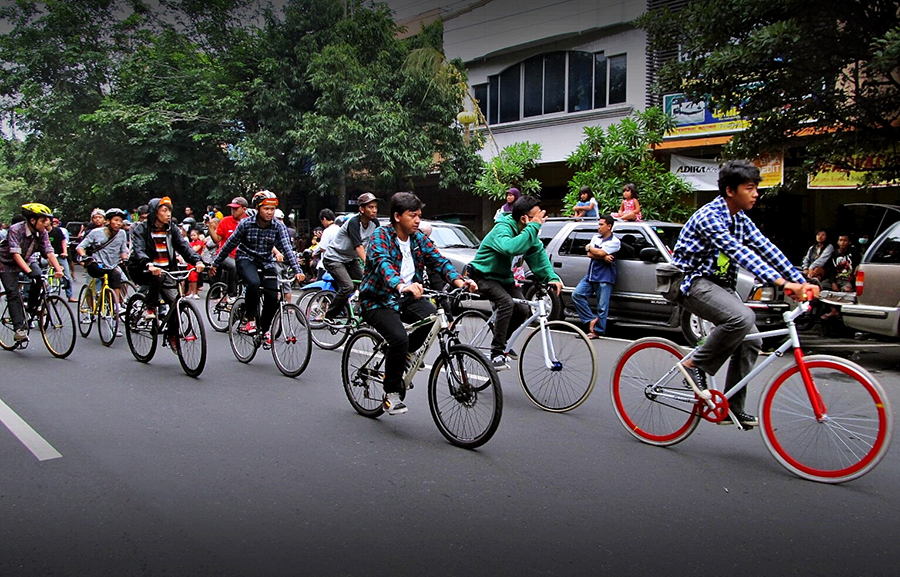bike: (606, 271, 898, 491), (338, 280, 507, 455), (445, 273, 600, 417), (226, 265, 318, 383), (121, 261, 211, 380), (2, 265, 79, 365)
person: (569, 210, 623, 344)
